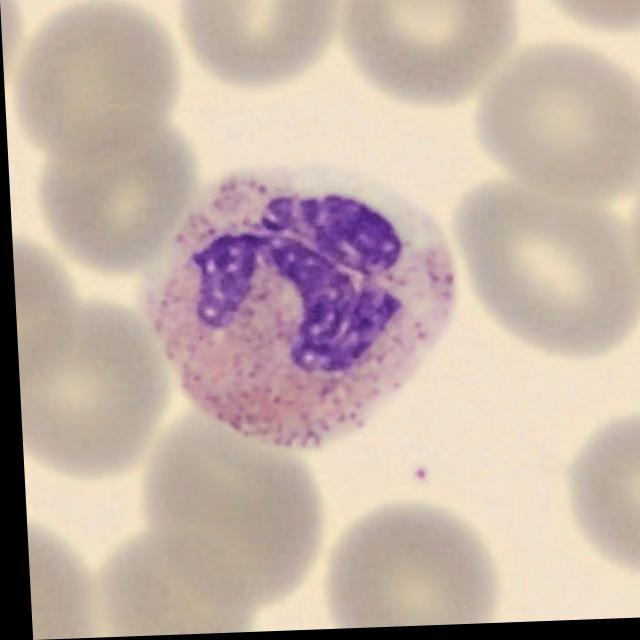Neutrofilo segmentado: (141, 167, 455, 454)
